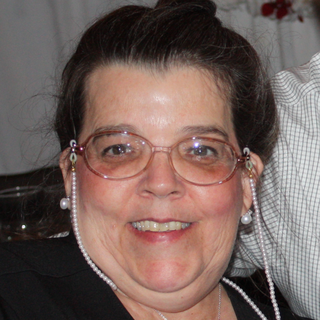eye: (181, 140, 224, 164), (97, 140, 140, 163)
